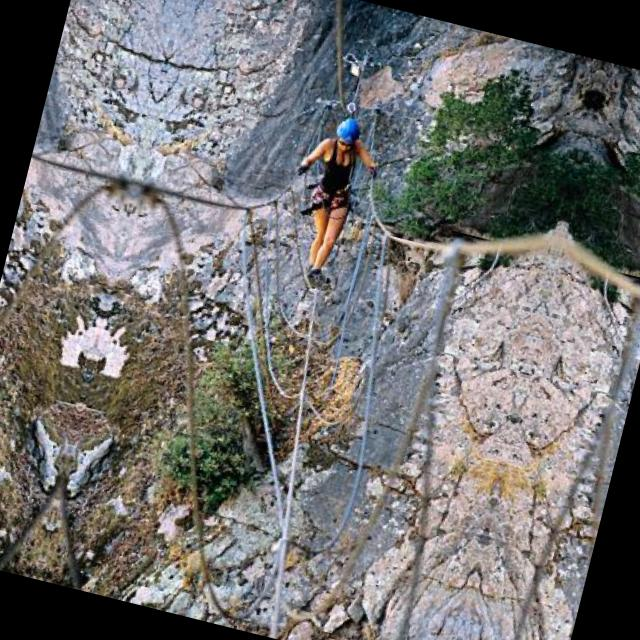helmet: (330, 114, 361, 154)
